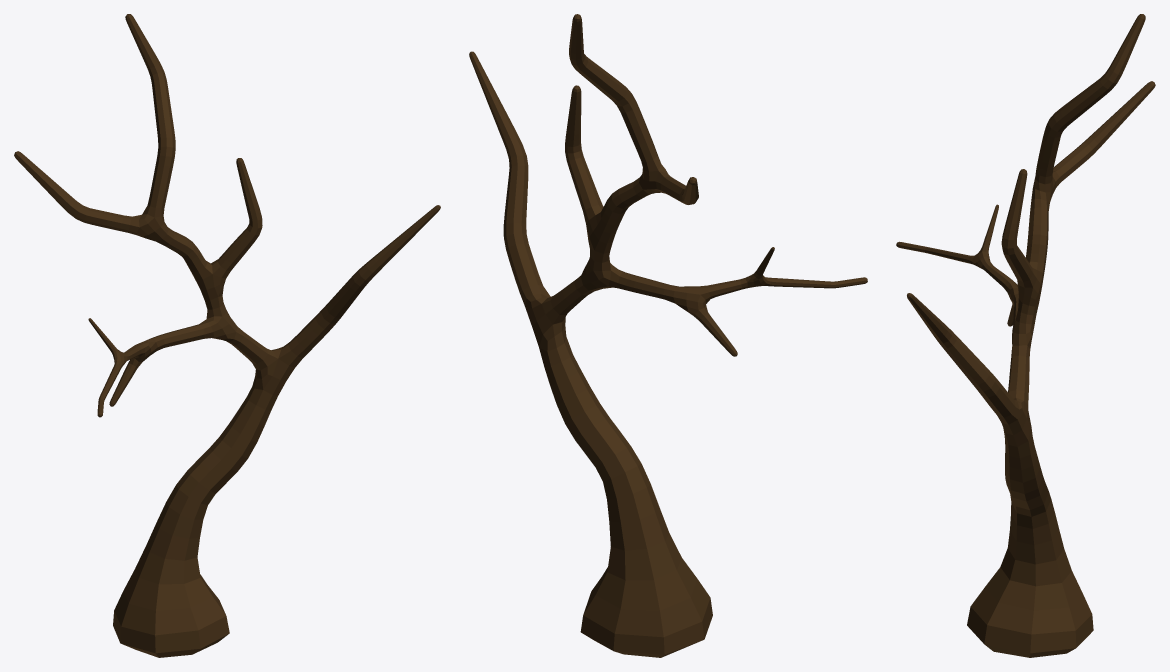
The model's file is D_Tree.fbx.
3 renders of one model, left to right at view 1: azimuth 30°, elevation 25°; view 2: azimuth 150°, elevation 25°; view 3: azimuth 270°, elevation 25°, orthographic. The views are drawn at different scales.
Parts seen in each view (by area): view 1: D_Tree; view 2: D_Tree; view 3: D_Tree.
Part boxes in pixels (x1,y1,x2,y2): D_Tree: (14,14,440,657); D_Tree: (469,14,867,657); D_Tree: (896,14,1155,657).
Size of the model in its own units: 675 by 1094 by 405.
